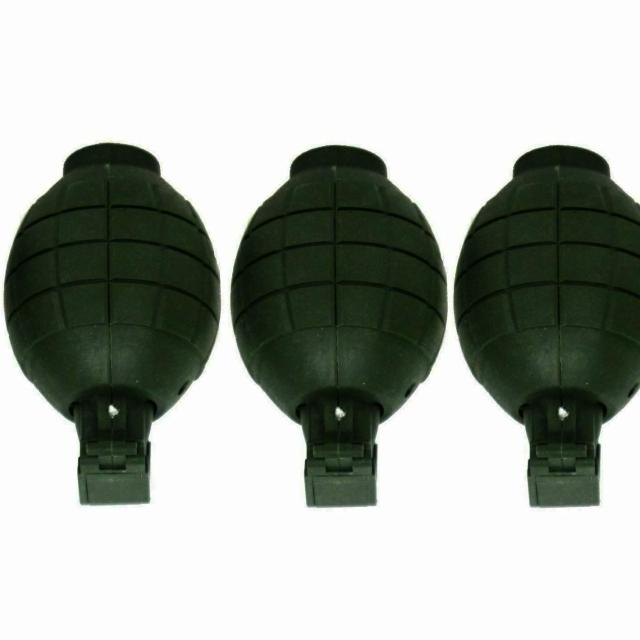grenade: (5, 145, 222, 506), (234, 147, 449, 508), (455, 147, 640, 506)
